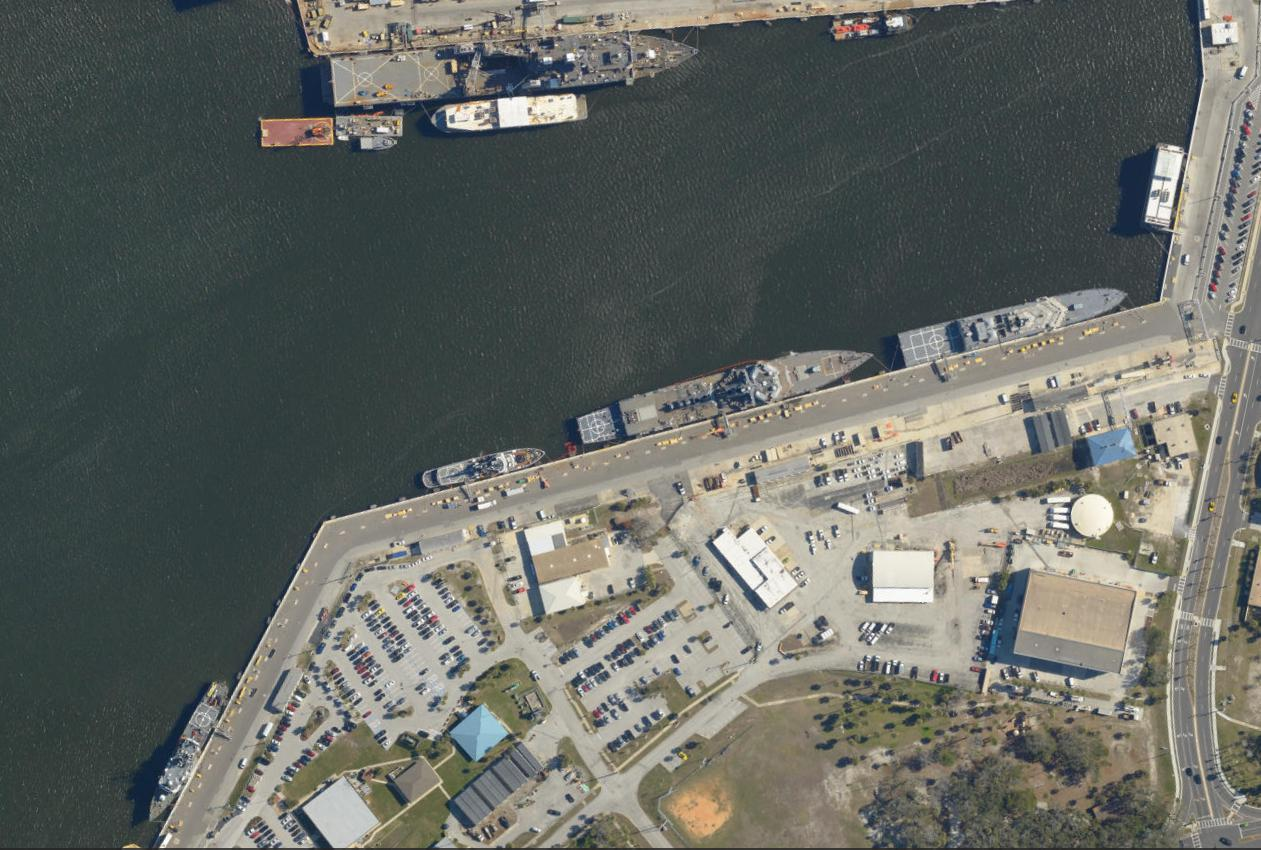fregate: (559, 332, 877, 455)
